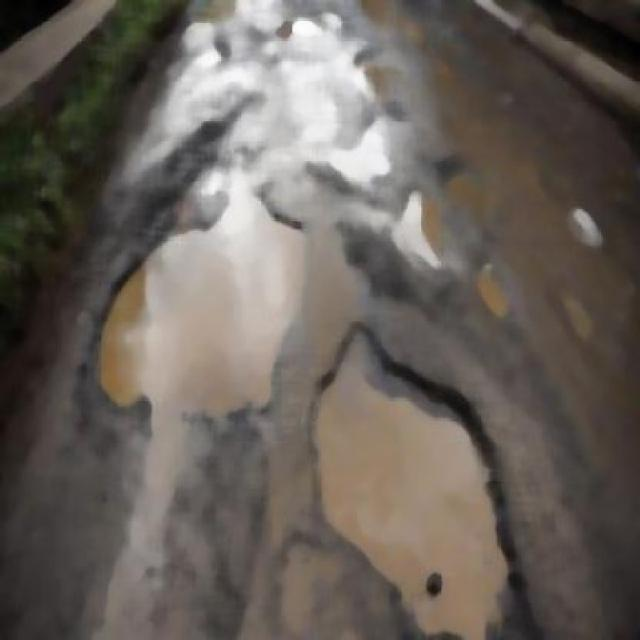Pothole: (92, 182, 305, 463), (312, 319, 497, 638)
